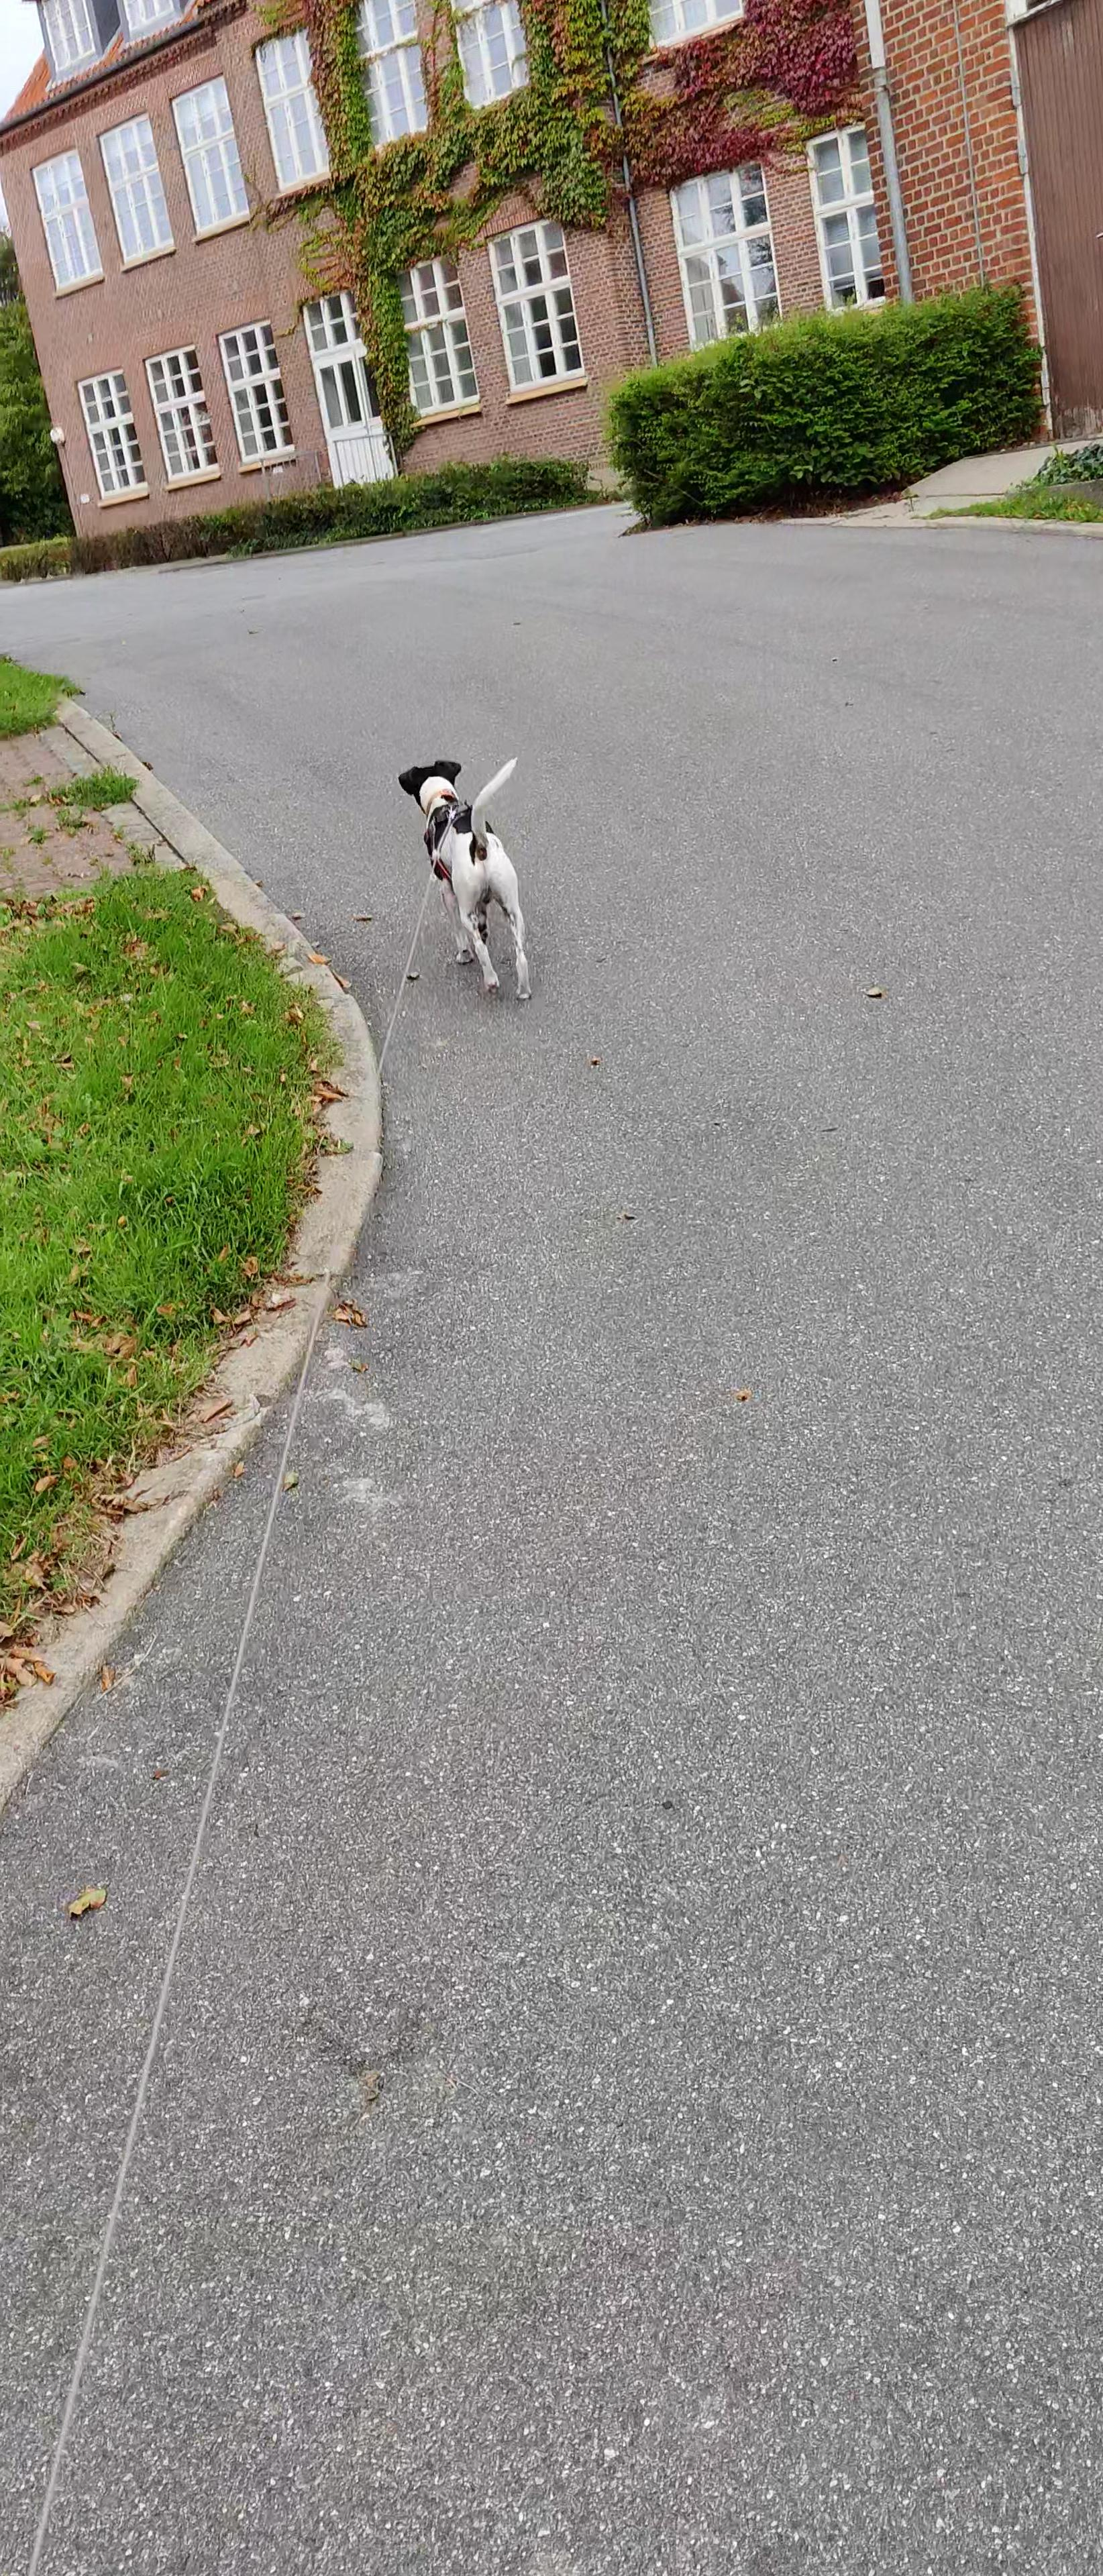Dog: (385, 751, 539, 1010)
